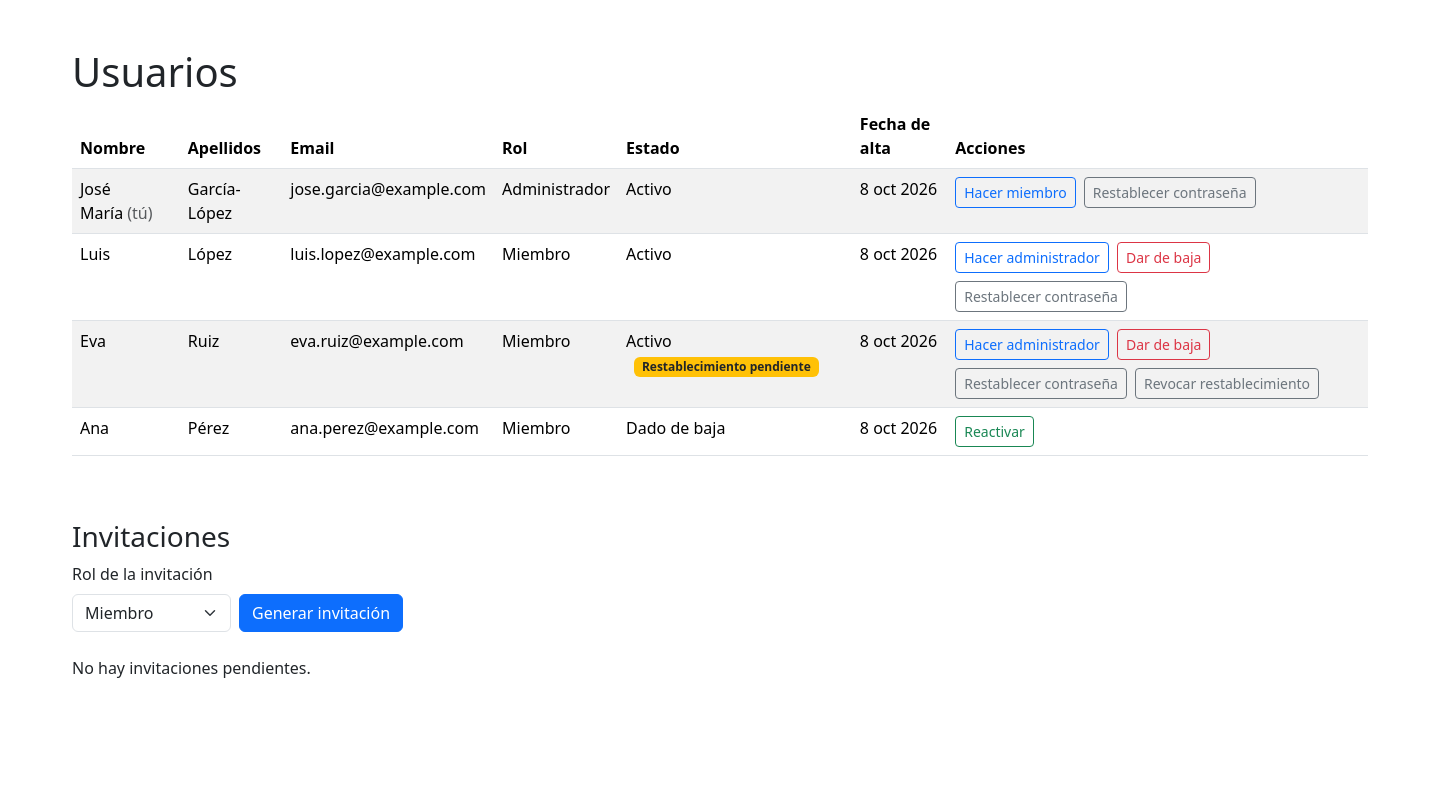
Test: UsersPage password reset › generating the link › discards the link with Done and never keeps it in the storage
What coordinates should you click on to do the following:
click the 2nd button "Restablecer contraseña"
I would click on:
 (1041, 296)
Its box is [955,281,1127,312].
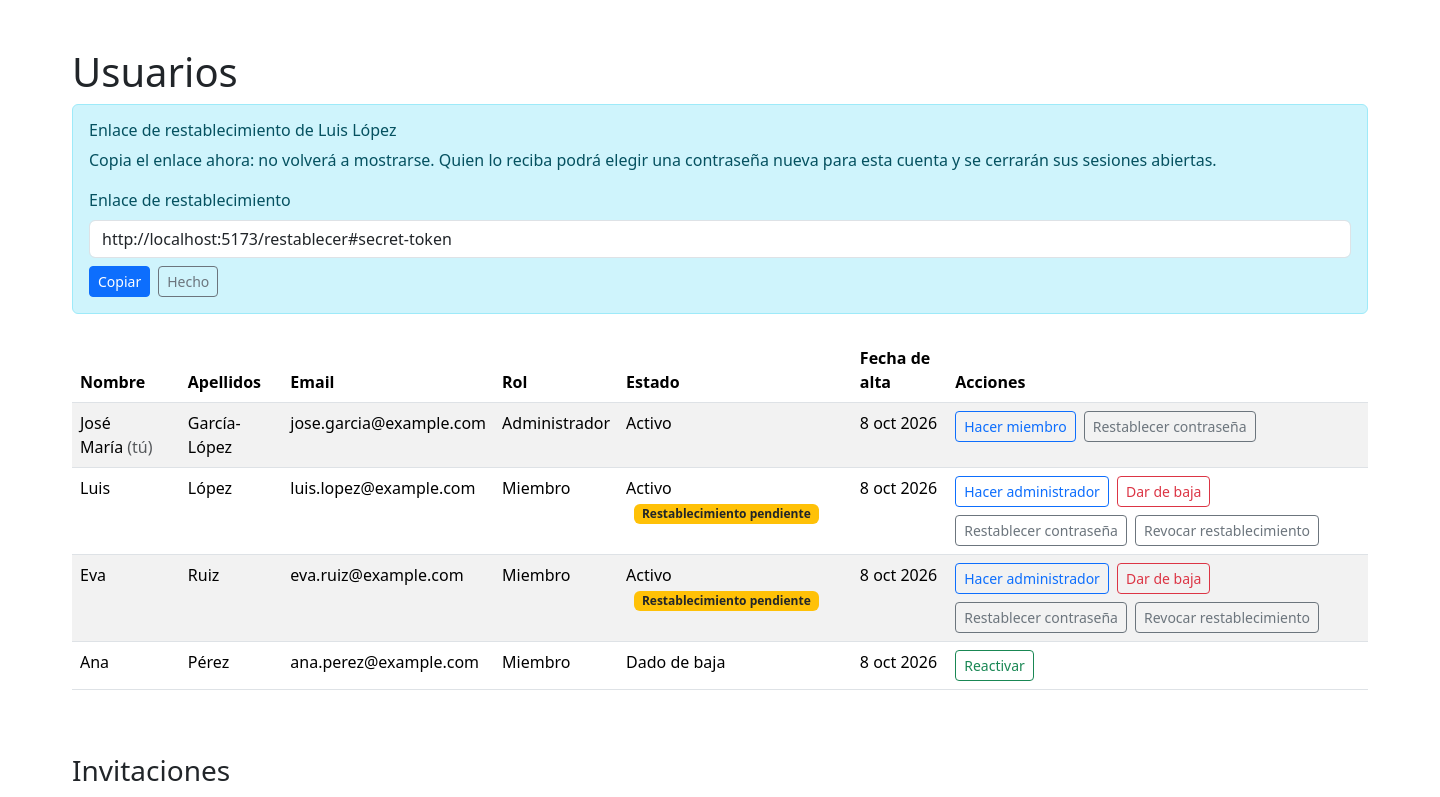
Check: the field labelled "Enlace de restablecimiento" is shown, box [89,220,1351,258]
What coordinates should you click on to do the following:
click the button "Hecho"
I would click on:
 (188, 282)
Its box is [158,266,218,297].
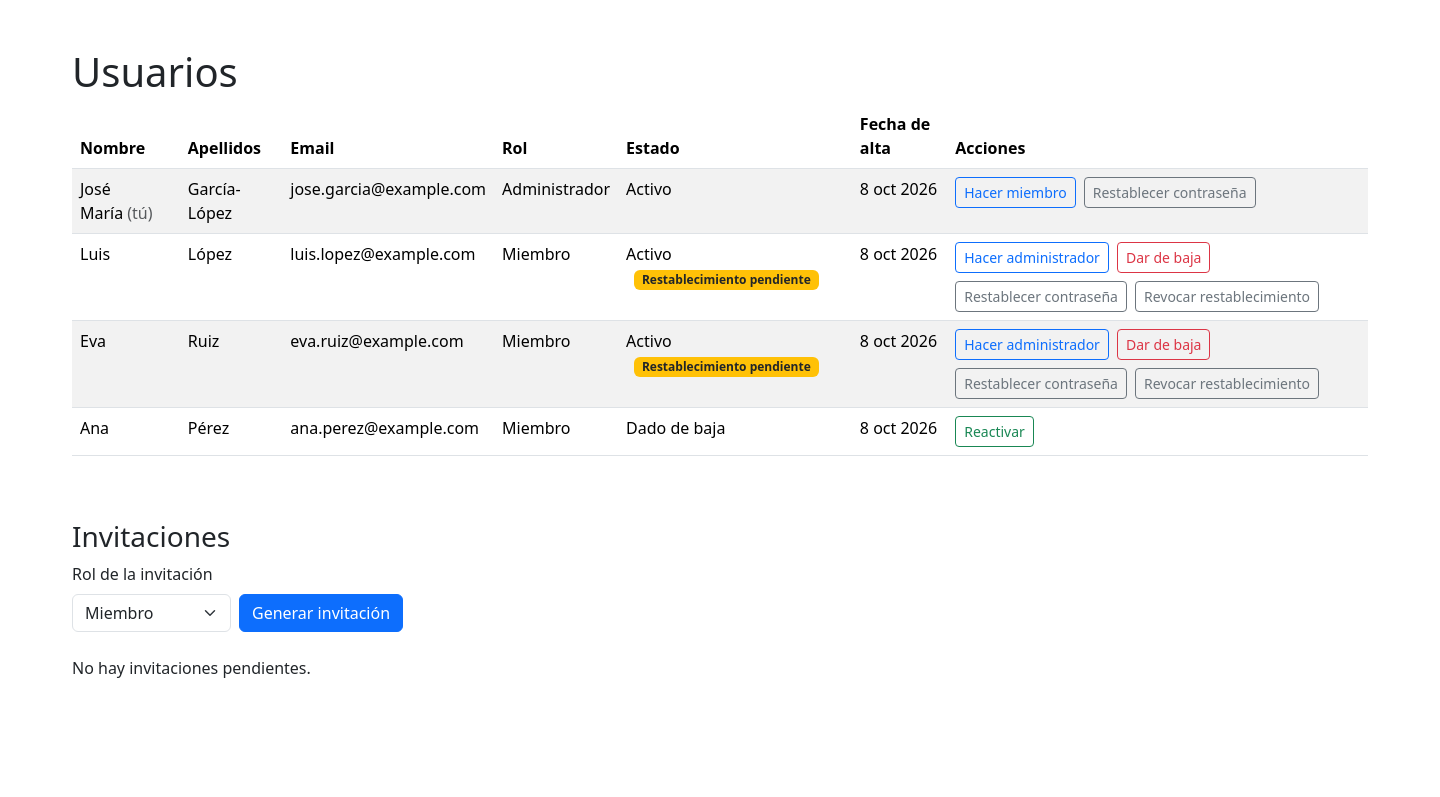
Check: the heading labelled "Enlace de restablecimiento" is gone
